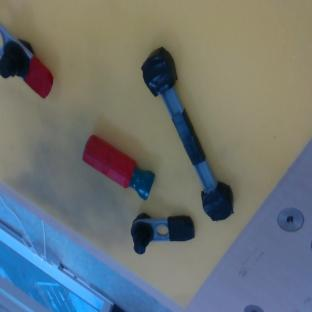part_1_bad: (124, 200, 197, 256)
part_1_good: (0, 23, 66, 104)
part_2_good: (76, 133, 161, 201)
part_3_bad: (134, 44, 241, 226)
